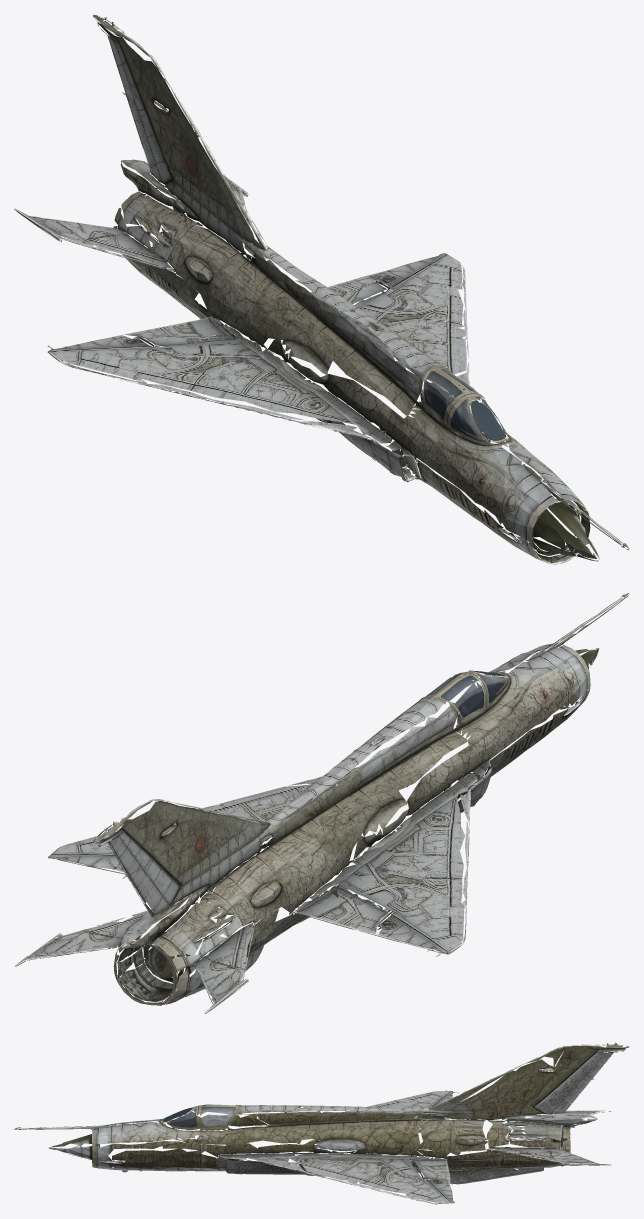
Rendered from mig21.glb.
3 renders of one model, top to bottom at view 1: azimuth 30°, elevation 25°; view 2: azimuth 150°, elevation 25°; view 3: azimuth 270°, elevation 25°, orthographic. The views are drawn at different scales.
Size of the model in its own units: 0.8226 by 0.4827 by 1.9.
1 material, 1 textured.
